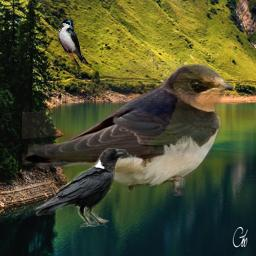Crow: (34, 145, 129, 228)
Swallow: (22, 61, 234, 196), (57, 18, 87, 66)
